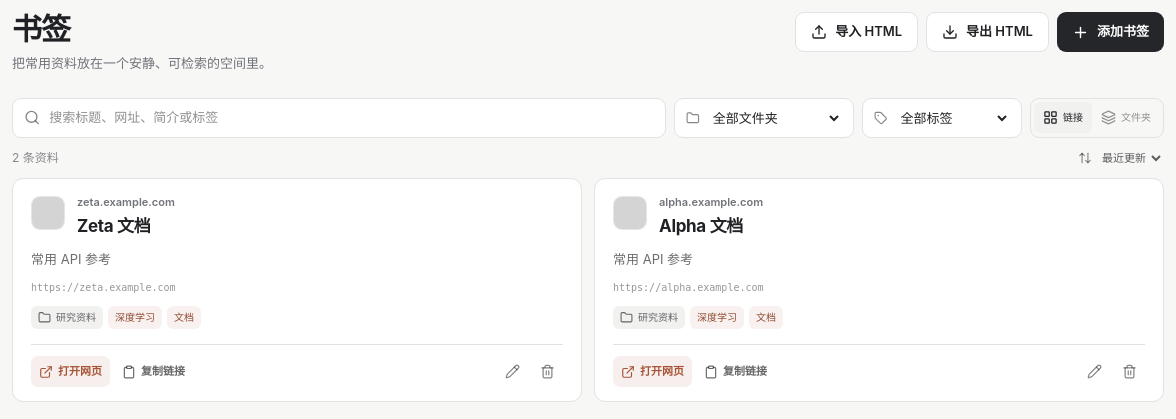
Test: BookmarksPage › sorts bookmark cards while keeping recently updated as the default
The image size is (1176, 419).
Check: the heading "Zeta 文档" is shown, box left=77, top=215, right=150, bottom=235
Check: the headings read "Zeta 文档", "Alpha 文档", in this order, box left=77, top=215, right=150, bottom=235; left=659, top=215, right=743, bottom=235
Select "标题 A–Z" in the dropdown named "卡片排序" in the row of "条资料". click: (1131, 158)
box: left=1098, top=150, right=1164, bottom=166
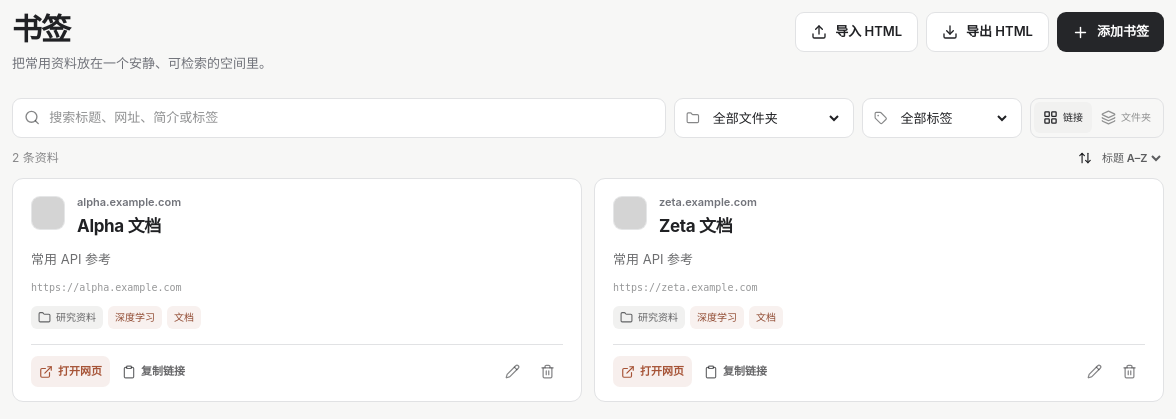
Check: the headings read "Alpha 文档", "Zeta 文档", in this order, box left=77, top=215, right=161, bottom=235; left=659, top=215, right=732, bottom=235
